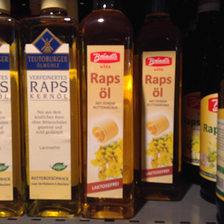oil: (18, 1, 81, 219), (78, 3, 138, 218), (135, 3, 183, 202)
